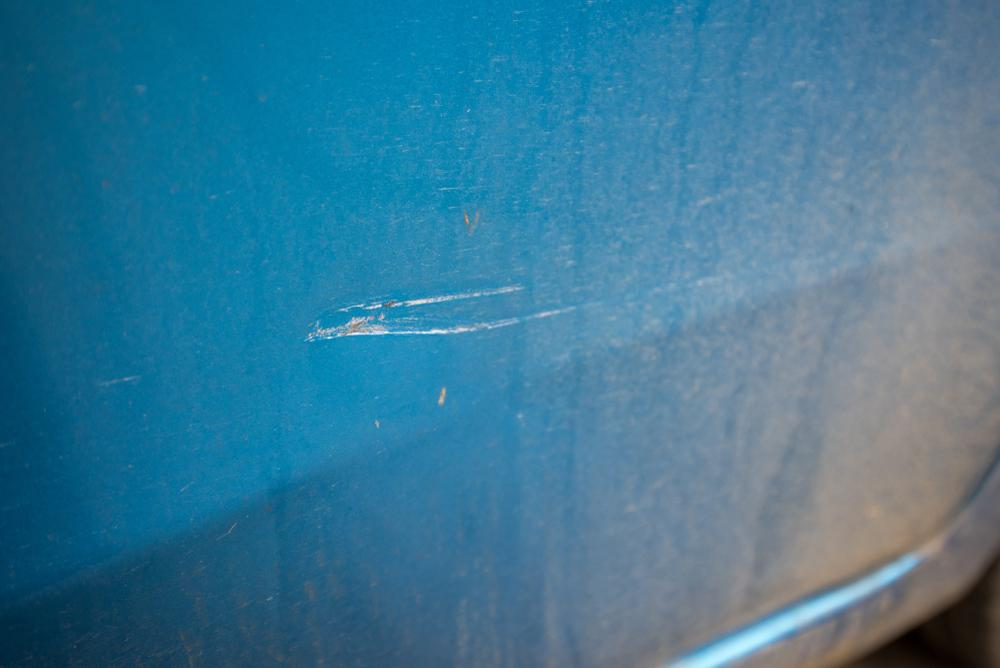scratch: (296, 282, 588, 348)
